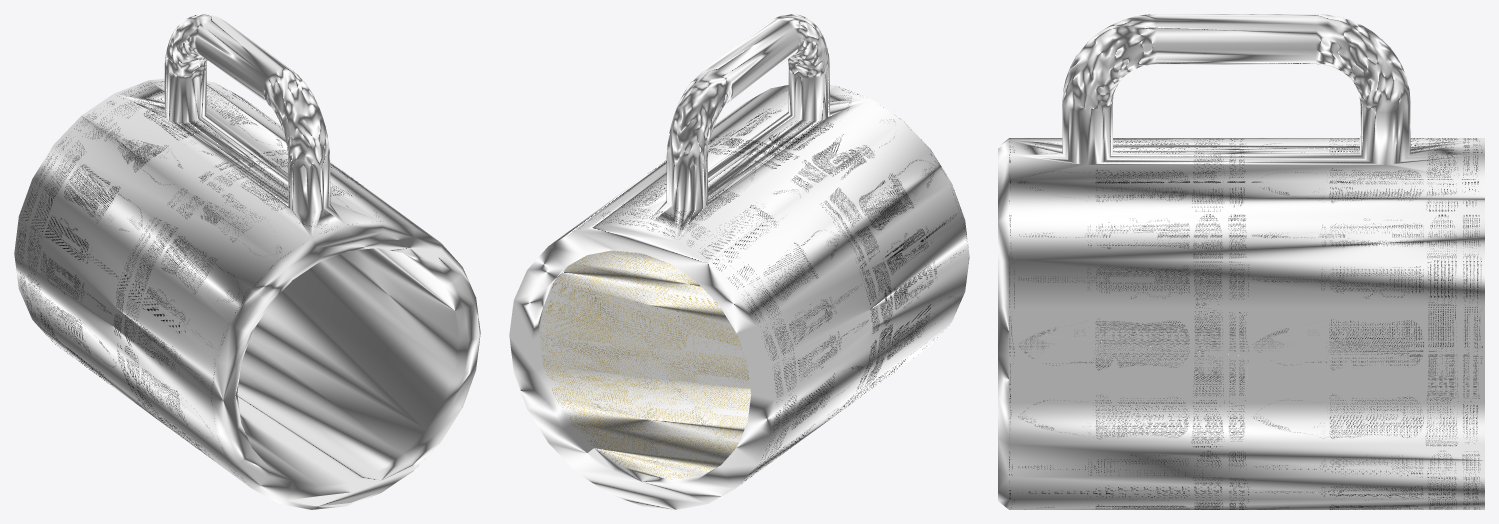
Rendered from model_align.obj.
The picture shows the model from 3 angles, left to right: view 1: azimuth 30°, elevation 25°; view 2: azimuth 150°, elevation 25°; view 3: azimuth 270°, elevation 25°; orthographic projection. The views are drawn at different scales.
Bounding box in the file's own units: 0.0773 × 0.1083 × 0.1008.
